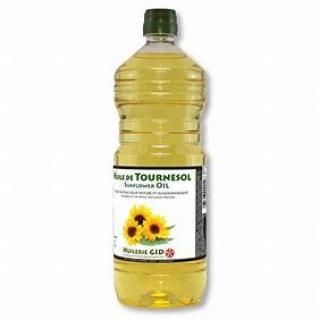Plastic-bottle: (103, 5, 218, 320)
